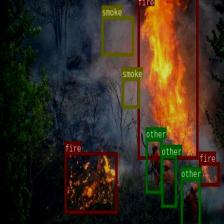fire: (137, 0, 198, 158), (64, 152, 117, 213), (199, 162, 219, 186)
smoke: (102, 15, 134, 56), (122, 77, 140, 108)
